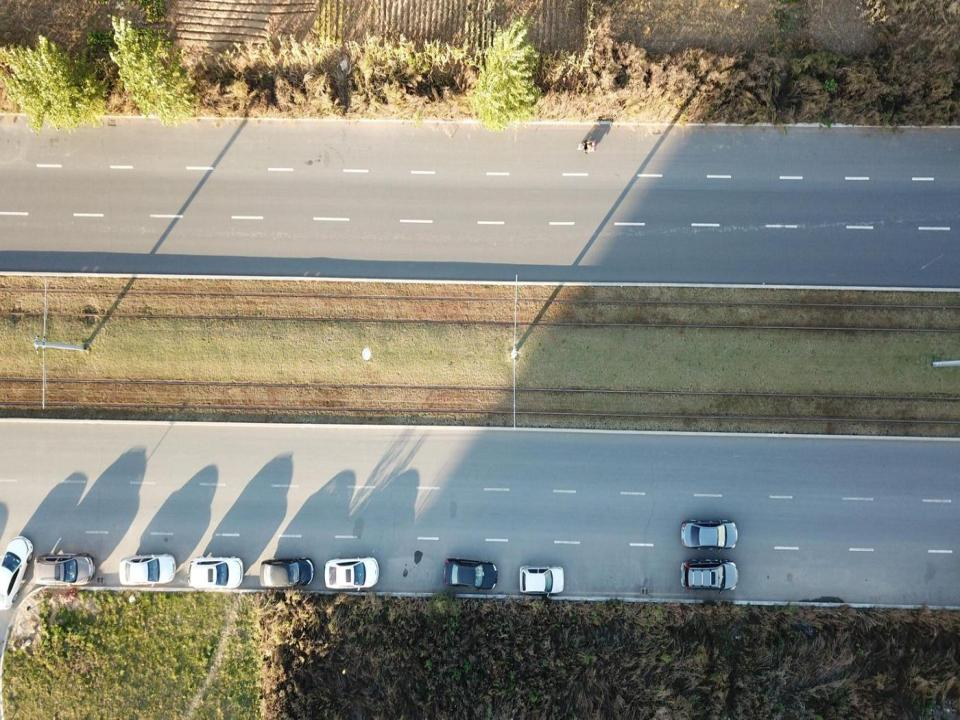car: (0, 534, 34, 611), (680, 559, 739, 596), (115, 551, 175, 584), (35, 554, 94, 586), (680, 519, 739, 550), (259, 557, 313, 590), (443, 556, 497, 588), (324, 556, 378, 588), (190, 556, 244, 588), (518, 565, 564, 594)
